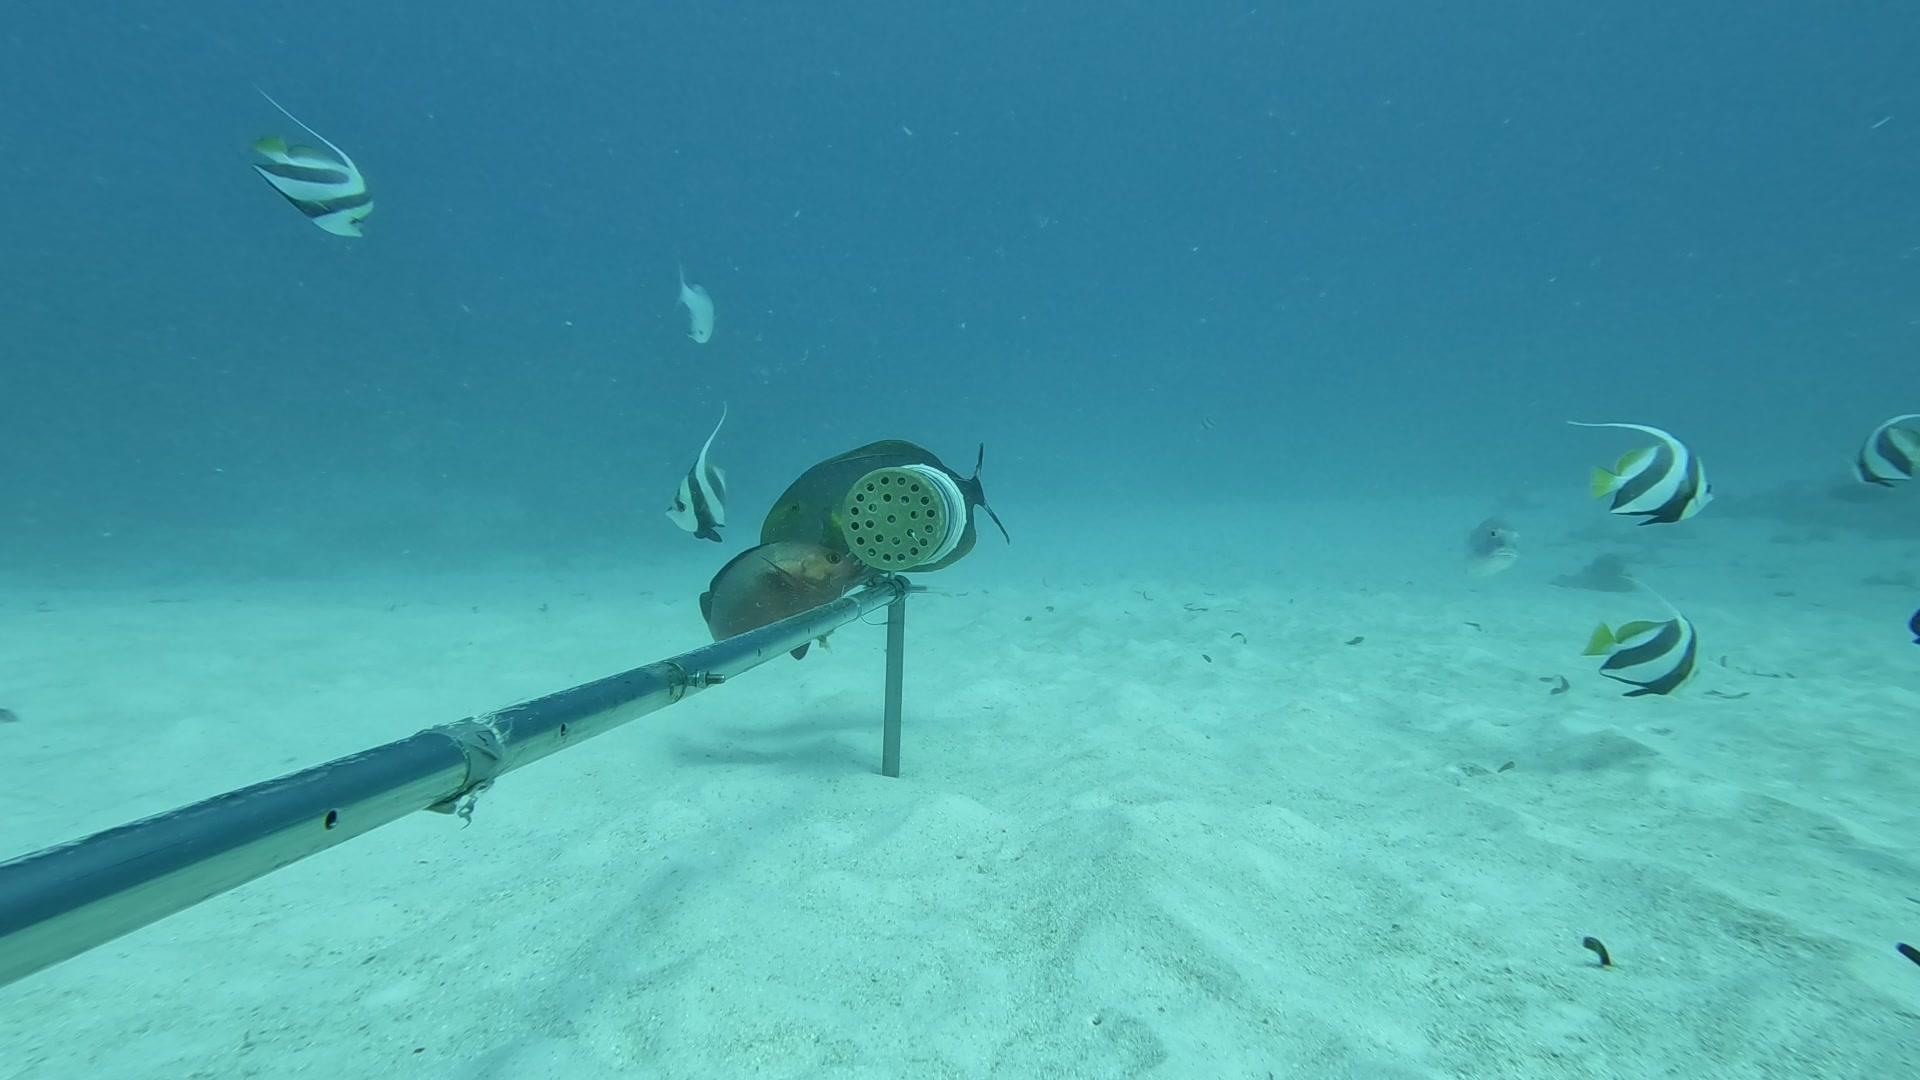fish: (649, 535, 872, 709), (746, 429, 1015, 563), (228, 71, 393, 265), (1557, 398, 1726, 538), (1581, 588, 1716, 708), (653, 401, 750, 554), (1840, 386, 1920, 510), (1449, 505, 1531, 591), (659, 258, 728, 353)
